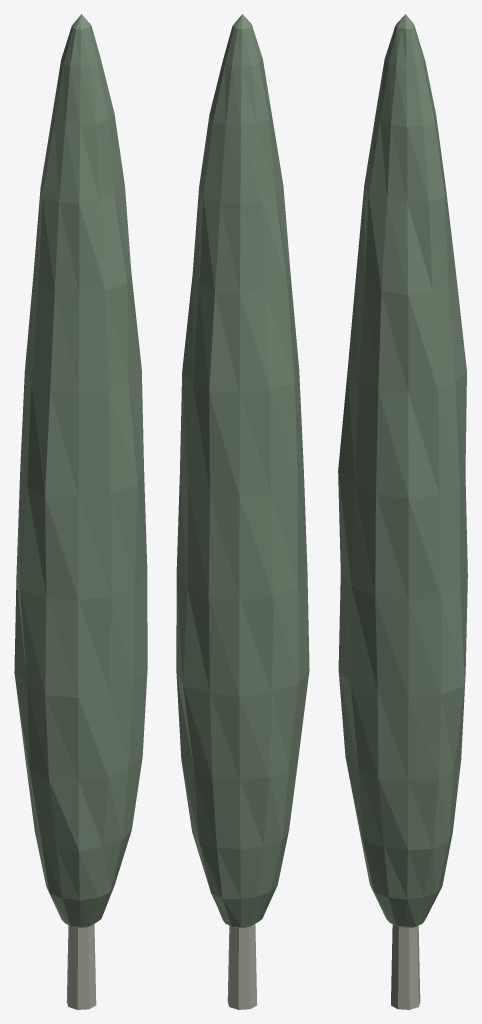
File: cypress-a.glb
3 renders of one model, left to right at view 1: azimuth 30°, elevation 25°; view 2: azimuth 210°, elevation 25°; view 3: azimuth 330°, elevation 25°, orthographic.
Visible parts, largest first — view 1: cypress-a; view 2: cypress-a; view 3: cypress-a.
Part boxes in pixels (<box>): cypress-a: <box>14,14,147,1009</box>; cypress-a: <box>176,14,309,1009</box>; cypress-a: <box>338,14,467,1009</box>.
Size of the model in its own units: 869 by 6800 by 768.
